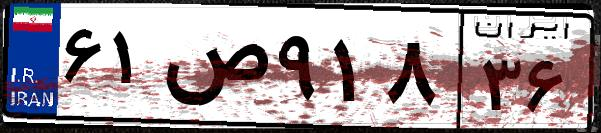1: (330, 28, 385, 110), (110, 28, 158, 98)
3: (475, 38, 525, 113)
6: (57, 26, 110, 100), (525, 38, 570, 115)
8: (385, 28, 445, 110)
9: (270, 28, 330, 110)
ص: (158, 20, 270, 120)
